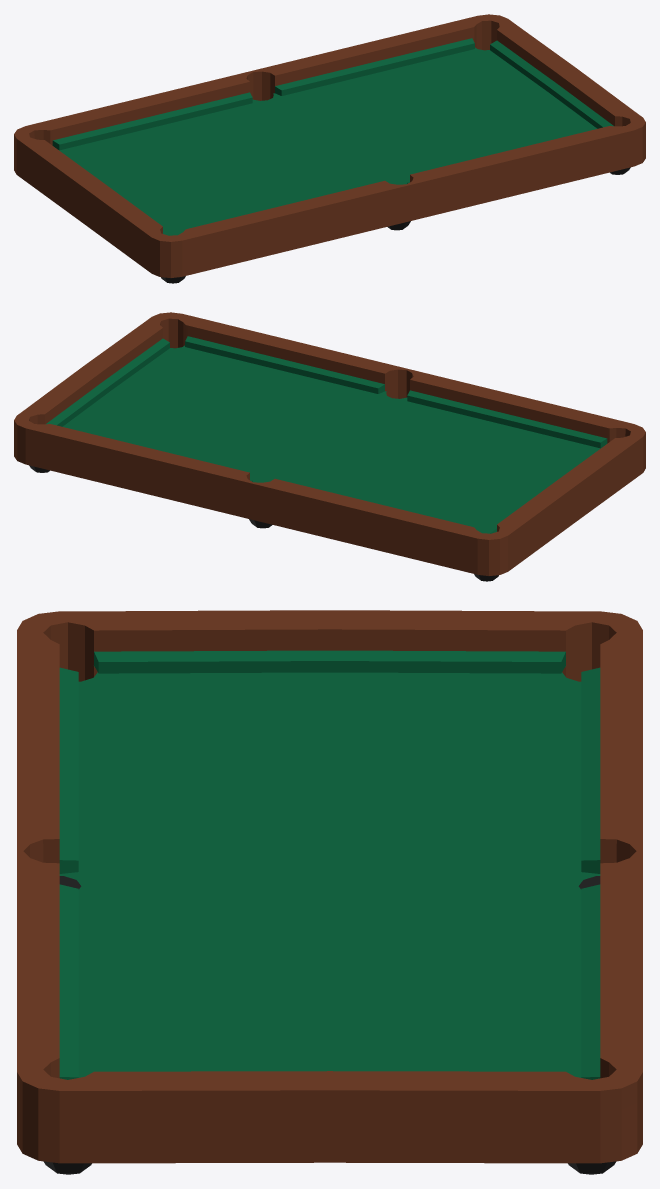
Rendered from PoolTable.fbx.
3 views of the same model, one above another, from view 1: azimuth 30°, elevation 25°; view 2: azimuth 150°, elevation 25°; view 3: azimuth 270°, elevation 25° (orthographic). The views are drawn at different scales.
Visible parts, largest first — view 1: Plane.001, Plane; view 2: Plane.001, Plane; view 3: Plane, Plane.001.
Boxes of the visible parts, x1,y1,x2,y2 form: Plane.001: [14, 14, 645, 277]; Plane: [59, 47, 597, 235]; Plane.001: [14, 312, 645, 575]; Plane: [62, 345, 600, 533]; Plane: [59, 666, 600, 1077]; Plane.001: [17, 610, 642, 1163].
Size of the model in its own units: 481 by 50.22 by 265.
